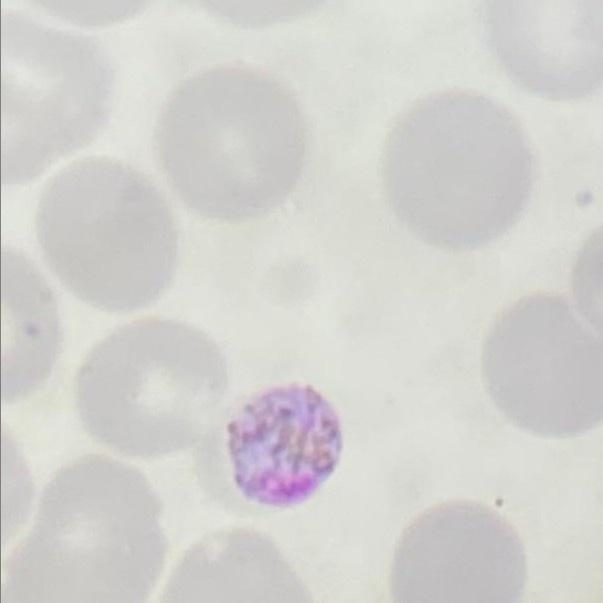Infected: (205, 381, 335, 514)
Uninfected: (2, 459, 169, 603), (383, 92, 532, 251), (155, 67, 302, 224), (35, 157, 178, 310), (0, 2, 117, 189), (72, 319, 223, 461), (483, 289, 603, 434), (387, 499, 531, 603)
